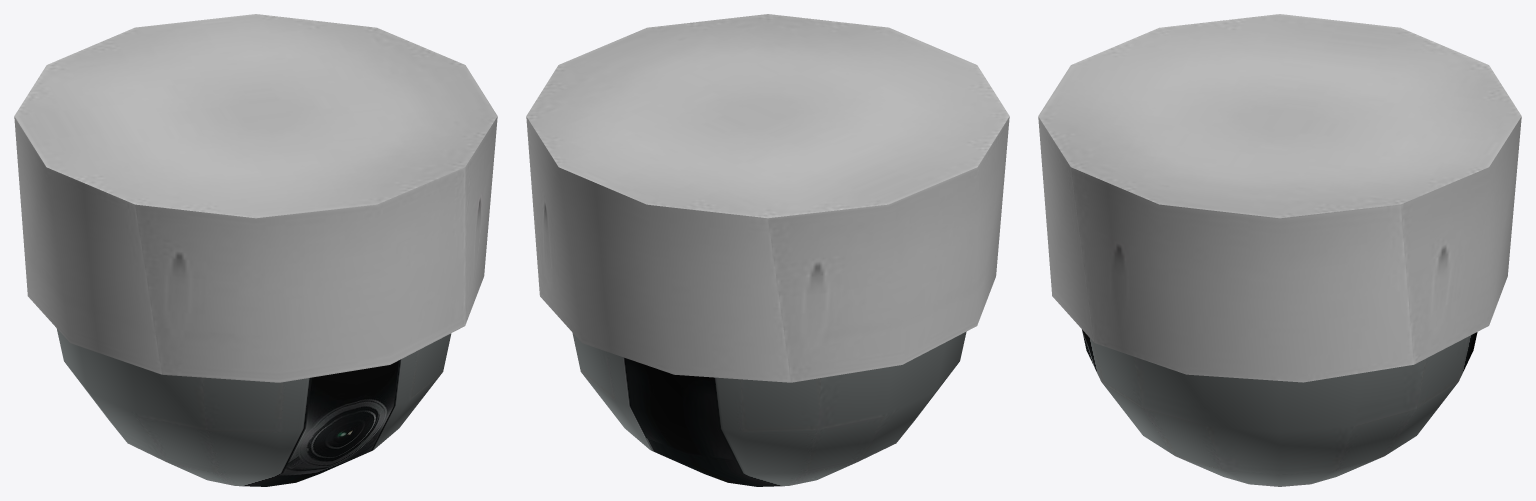
The model's file is cctvDome01.gltf.
3 renders of one model, left to right at view 1: azimuth 30°, elevation 25°; view 2: azimuth 150°, elevation 25°; view 3: azimuth 270°, elevation 25°, orthographic.
Parts seen in each view (by area): view 1: cctv_dome; view 2: cctv_dome; view 3: cctv_dome.
Part boxes in pixels (x1,y1,x2,y2): cctv_dome: [14, 14, 497, 486]; cctv_dome: [526, 14, 1009, 486]; cctv_dome: [1038, 14, 1521, 486].
Size of the model in its own units: 1.73 by 1.39 by 1.73.
Materials: 1 (1 with a texture image).
